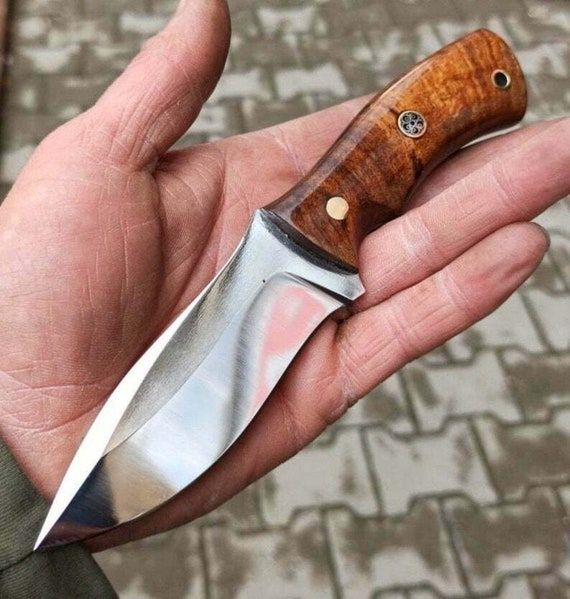knife: (28, 18, 537, 564)
